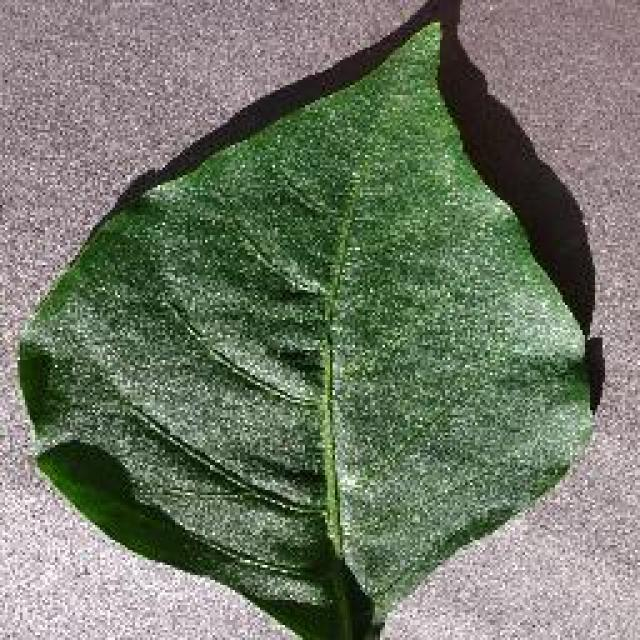Chilli_Healthy: (12, 0, 600, 638)
